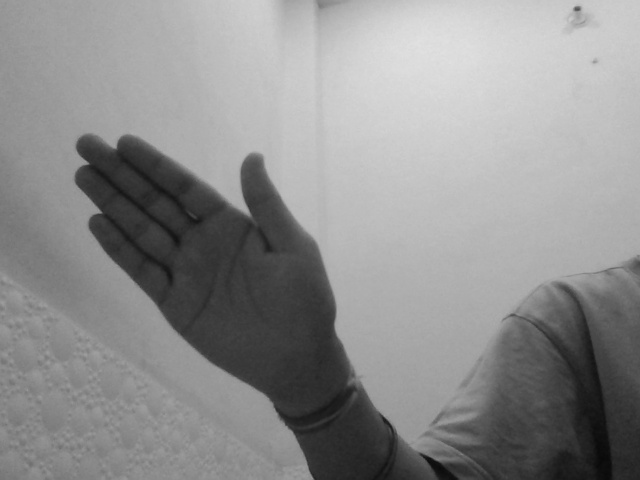Hello: (71, 128, 345, 405)
